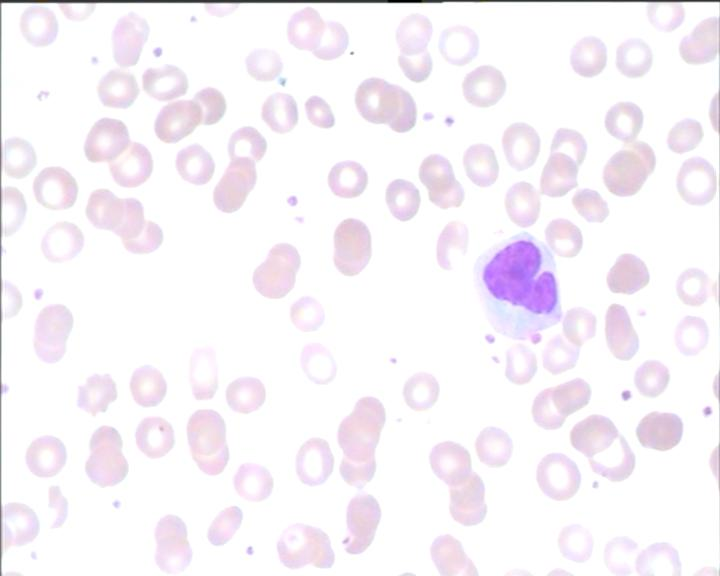mono: (475, 224, 561, 338)
